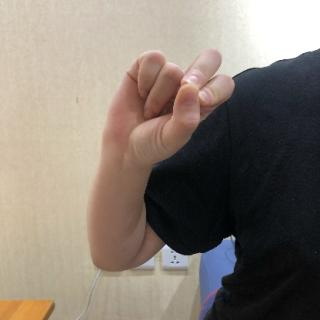QAAF: (97, 44, 236, 169)
